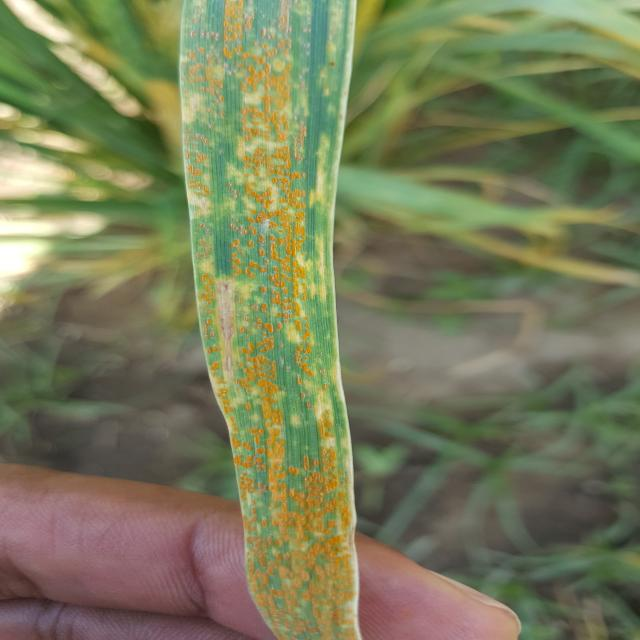leaf rust: (2, 263, 486, 457), (486, 283, 640, 401)
